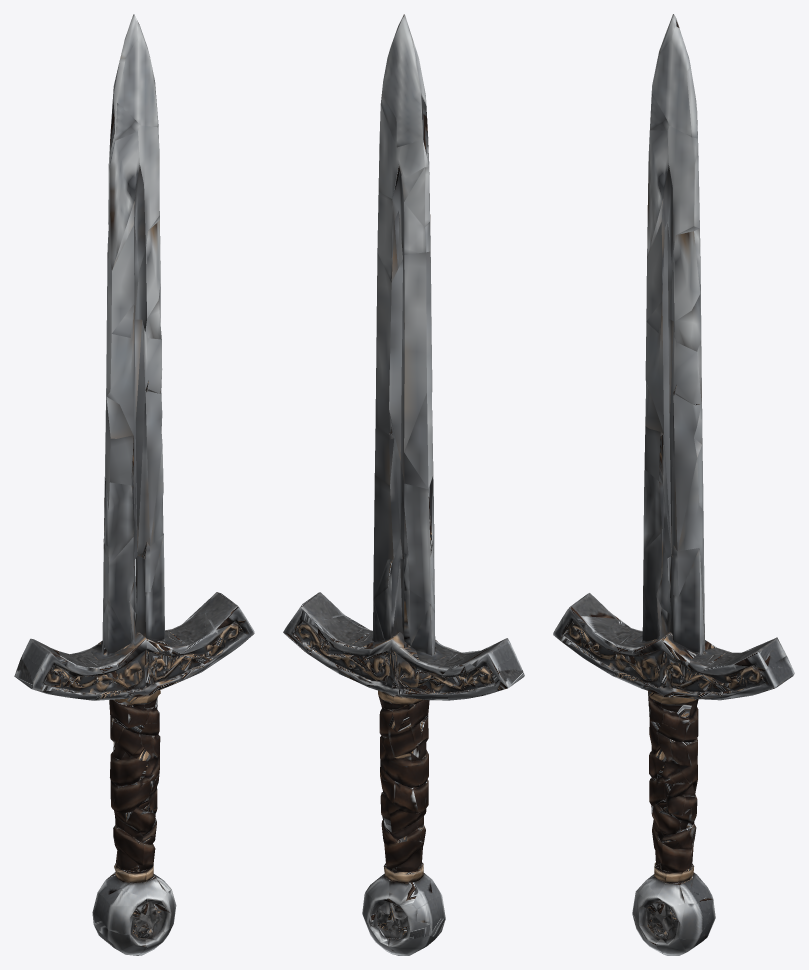
The model's file is longsword.glb.
3 views of the same model, side by side, from view 1: azimuth 30°, elevation 25°; view 2: azimuth 150°, elevation 25°; view 3: azimuth 330°, elevation 25° (orthographic).
Visible parts, largest first — view 1: Mesh_0; view 2: Mesh_0; view 3: Mesh_0.
Part boxes in pixels (bbox=[...]): Mesh_0: bbox=[14, 14, 254, 955]; Mesh_0: bbox=[283, 14, 524, 955]; Mesh_0: bbox=[553, 14, 794, 955].
Size of the model in its own units: 0.2753 by 1.1 by 0.0648.
1 material, 1 textured.
